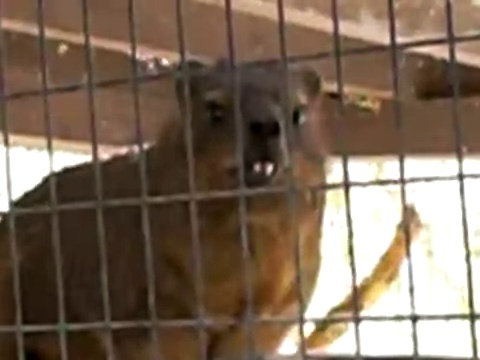Rock Hyrex: (1, 59, 327, 360)
